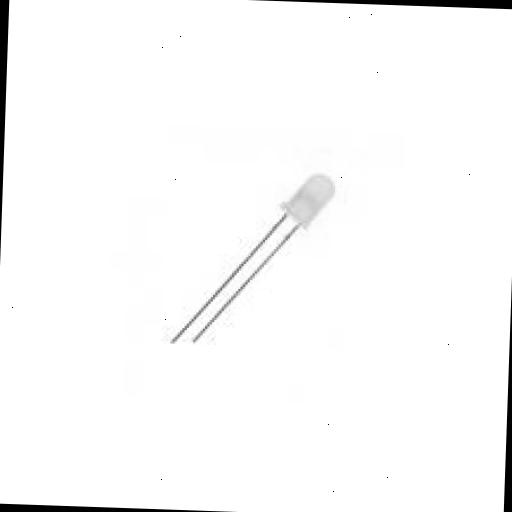LED: (166, 163, 336, 349)
